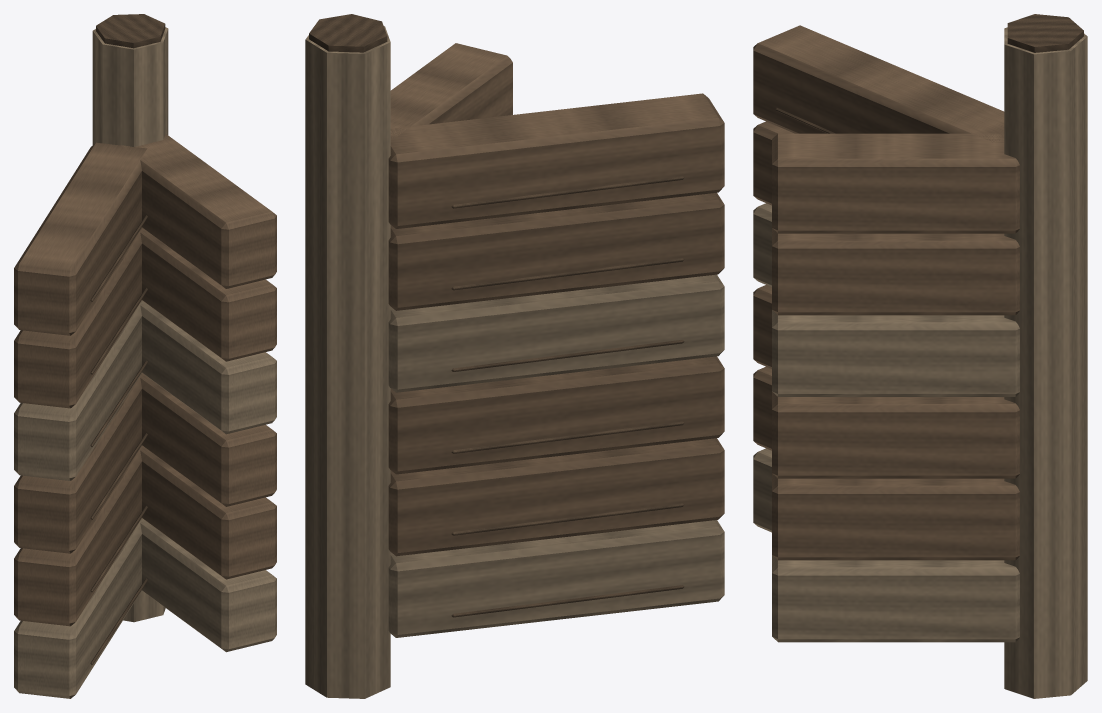
File: wall_mask_129.glb
3 renders of one model, left to right at view 1: azimuth 30°, elevation 25°; view 2: azimuth 150°, elevation 25°; view 3: azimuth 270°, elevation 25°, orthographic. The views are drawn at different scales.
Visible parts, largest first — view 1: Weathered timber, Timber worn edges, Dark endgrain; view 2: Weathered timber, Timber worn edges, Dark endgrain; view 3: Weathered timber, Timber worn edges, Dark endgrain.
Part boxes in pixels (x1=…): Weathered timber: x1=14, y1=134, x2=276, y2=626; Timber worn edges: x1=14, y1=27, x2=276, y2=698; Dark endgrain: x1=90, y1=14, x2=165, y2=664; Weathered timber: x1=388, y1=43, x2=724, y2=556; Timber worn edges: x1=305, y1=26, x2=724, y2=698; Dark endgrain: x1=309, y1=14, x2=684, y2=617; Weathered timber: x1=753, y1=25, x2=1019, y2=560; Timber worn edges: x1=753, y1=27, x2=1087, y2=698; Dark endgrain: x1=775, y1=14, x2=1083, y2=133.
Bounding box in the file's own units: 0.6463 × 1.39 × 0.6484.
3 materials, 3 textured.
